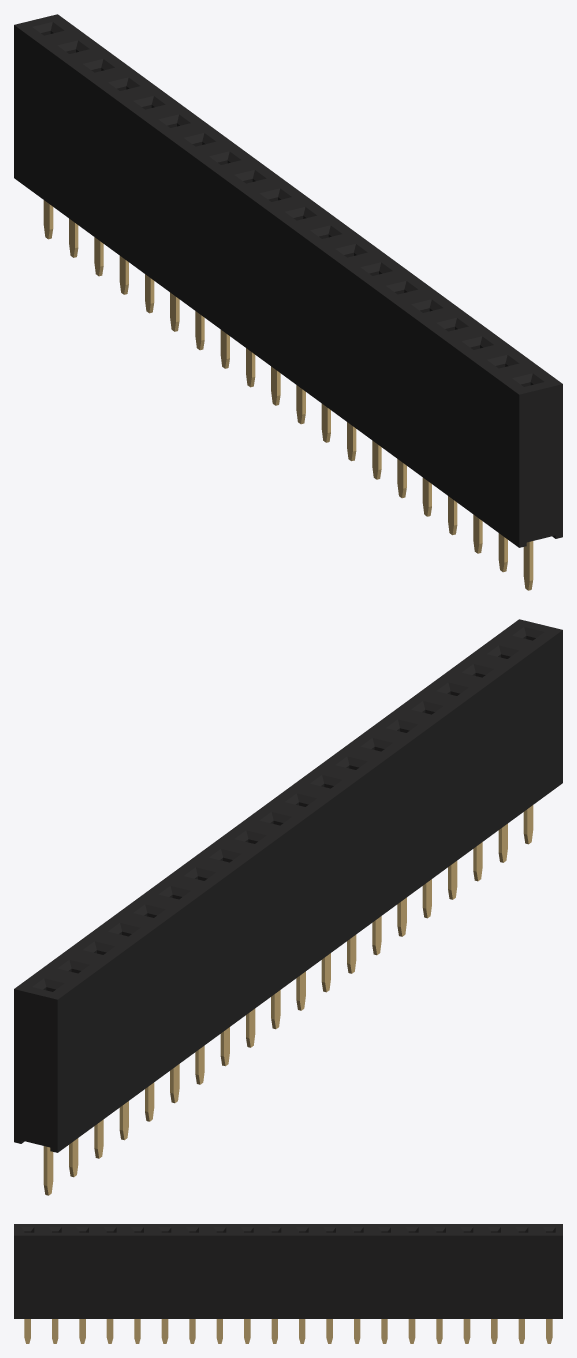
File: pinsocket_1x20_p2_54mm_vertical.glb
3 renders of one model, top to bottom at view 1: azimuth 30°, elevation 25°; view 2: azimuth 150°, elevation 25°; view 3: azimuth 270°, elevation 25°, orthographic. The views are drawn at different scales.
Visible parts, largest first — view 1: socket_1x20; view 2: socket_1x20; view 3: socket_1x20, pin_4, pin_17, pin_6, pin_15.
Boxes of the visible parts, bbox=[...] form: socket_1x20: bbox=[14, 14, 562, 547]; socket_1x20: bbox=[14, 619, 562, 1152]; socket_1x20: bbox=[14, 1224, 562, 1318]; pin_4: bbox=[463, 1319, 470, 1343]; pin_17: bbox=[106, 1319, 113, 1343]; pin_6: bbox=[408, 1319, 415, 1343]; pin_15: bbox=[161, 1319, 168, 1343].
Bounding box in the file's own units: 0.00254 × 0.0116 × 0.0508.
